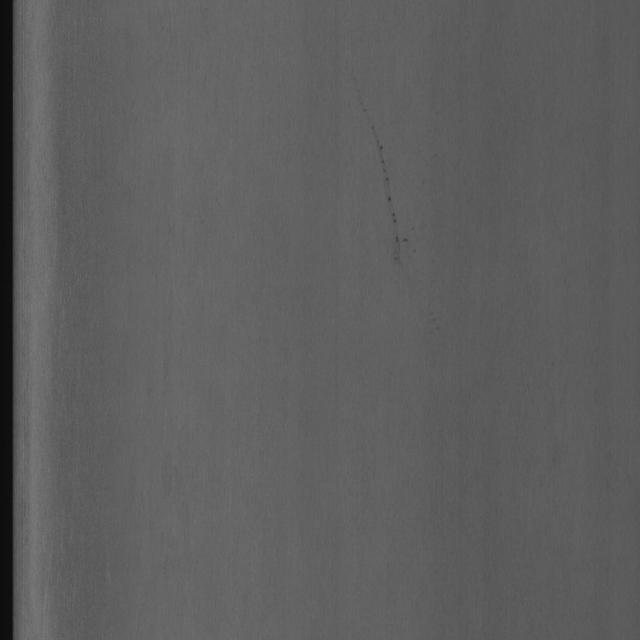water_spot: (364, 120, 412, 279)
